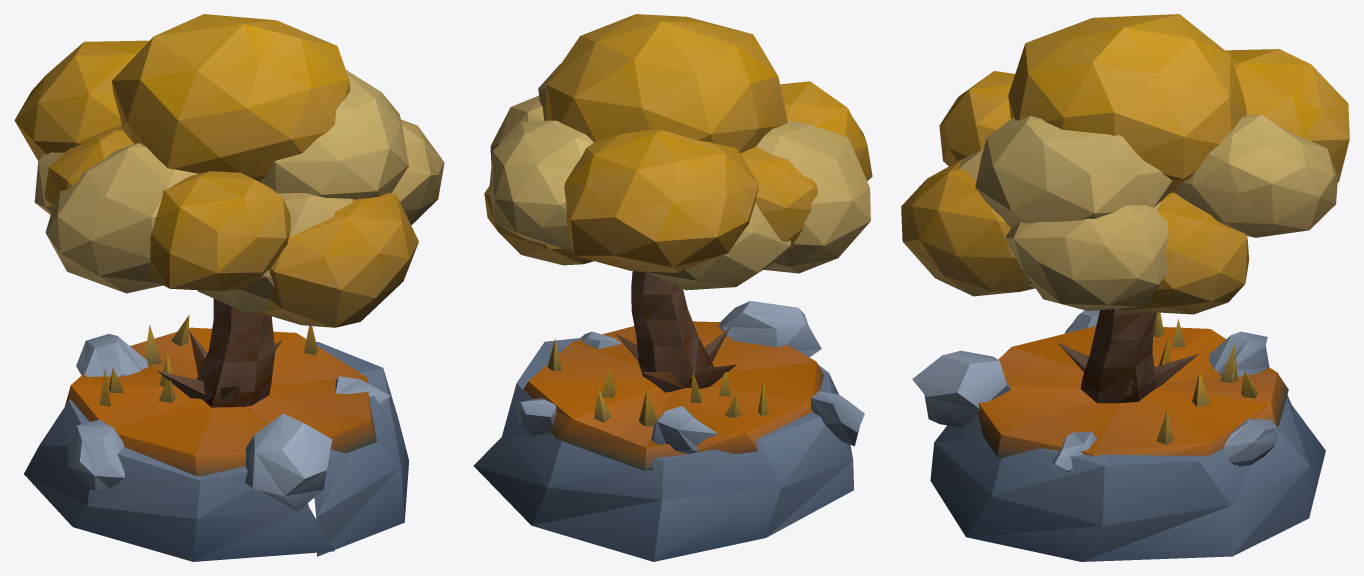
Rendered from pohon_oak_autumn_137458.glb.
The picture shows the model from 3 angles, left to right: view 1: azimuth 30°, elevation 25°; view 2: azimuth 150°, elevation 25°; view 3: azimuth 270°, elevation 25°; orthographic projection. The views are drawn at different scales.
Visible parts, largest first — view 1: Dedaunan_Kanopi, Pulau_Batu_Tepi_Sungai, Batang_Dan_Akar; view 2: Dedaunan_Kanopi, Pulau_Batu_Tepi_Sungai, Batang_Dan_Akar; view 3: Dedaunan_Kanopi, Pulau_Batu_Tepi_Sungai, Batang_Dan_Akar.
Boxes of the visible parts, <box> form: Dedaunan_Kanopi: <box>14,14,444,327</box>; Pulau_Batu_Tepi_Sungai: <box>24,315,408,561</box>; Batang_Dan_Akar: <box>157,298,282,411</box>; Dedaunan_Kanopi: <box>484,14,872,290</box>; Pulau_Batu_Tepi_Sungai: <box>473,301,864,561</box>; Batang_Dan_Akar: <box>616,271,736,392</box>; Dedaunan_Kanopi: <box>901,14,1349,314</box>; Pulau_Batu_Tepi_Sungai: <box>912,310,1325,561</box>; Batang_Dan_Akar: <box>1057,308,1199,403</box>.
Bounding box in the file's own units: 5.81 × 6.85 × 5.93.
